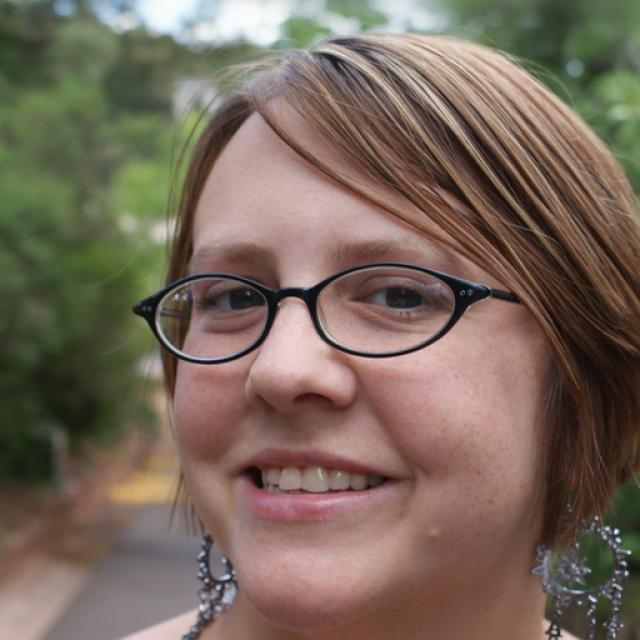Acne: (421, 522, 453, 552)
Pigmentation: (443, 416, 517, 526)
